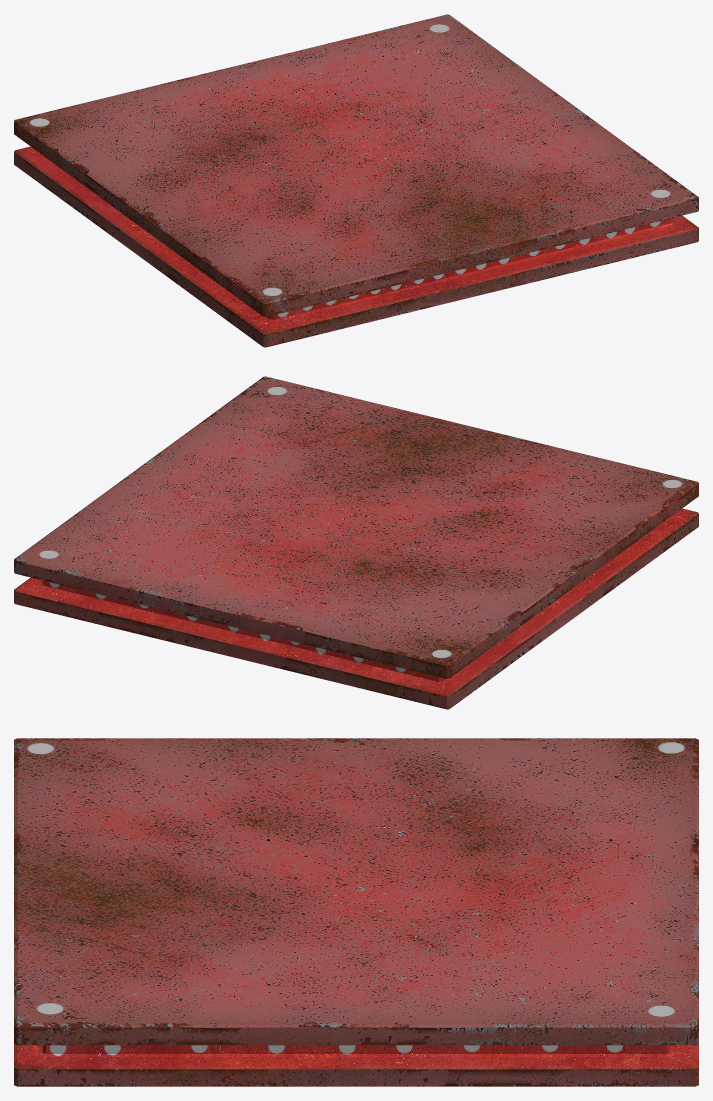
Rendered from RedPlatform2.fbx.
3 renders of one model, top to bottom at view 1: azimuth 30°, elevation 25°; view 2: azimuth 150°, elevation 25°; view 3: azimuth 270°, elevation 25°, orthographic. The views are drawn at different scales.
Parts seen in each view (by area): view 1: Cube.007; view 2: Cube.007; view 3: Cube.007.
Boxes of the visible parts, bbox=[...] form: Cube.007: bbox=[14, 14, 698, 347]; Cube.007: bbox=[14, 376, 698, 709]; Cube.007: bbox=[14, 738, 698, 1086].
Size of the model in its own units: 400 by 40 by 400.
